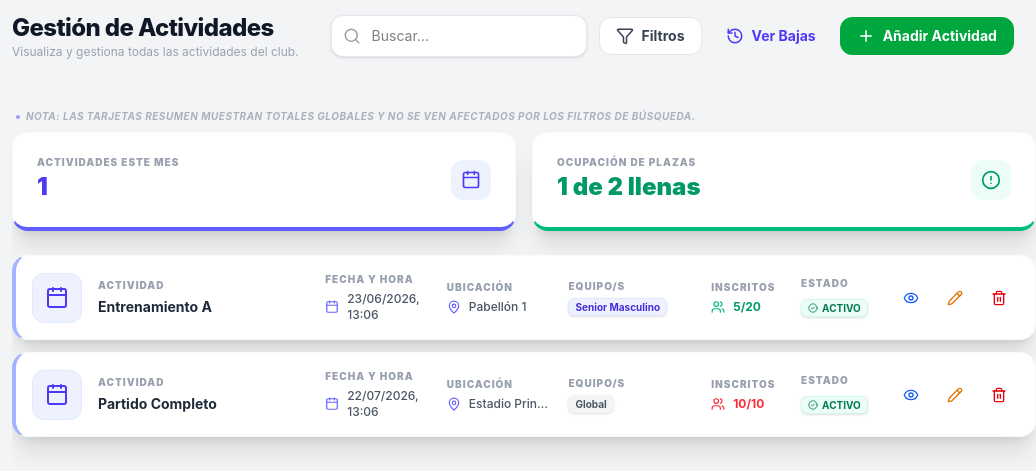
Scenario: ActivityPage › debe filtrar por nombre de actividad
Type "Partido" into the field with placeholder "Buscar...". click: coordinates (459, 36)
box: [331, 15, 587, 57]
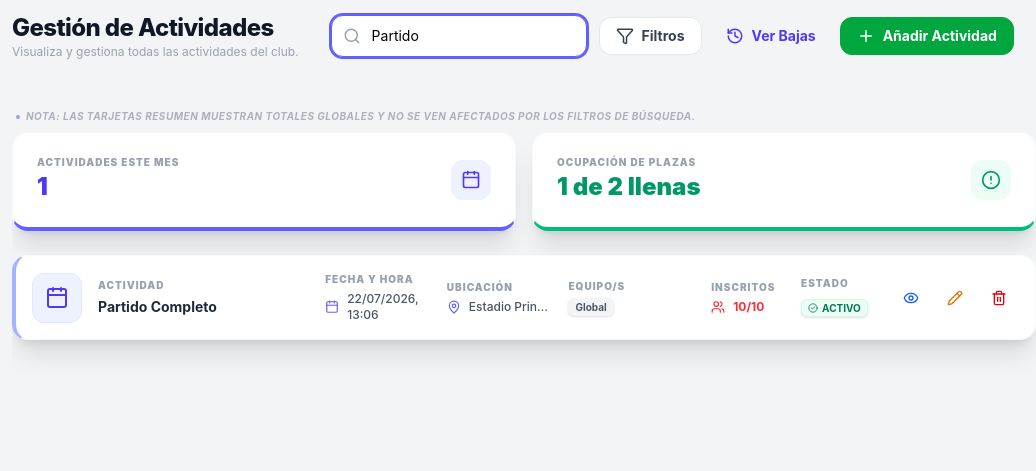
Check: the heading "Partido Completo" is shown, box [98, 298, 217, 315]
Check: the heading "Entrenamiento A" is gone
